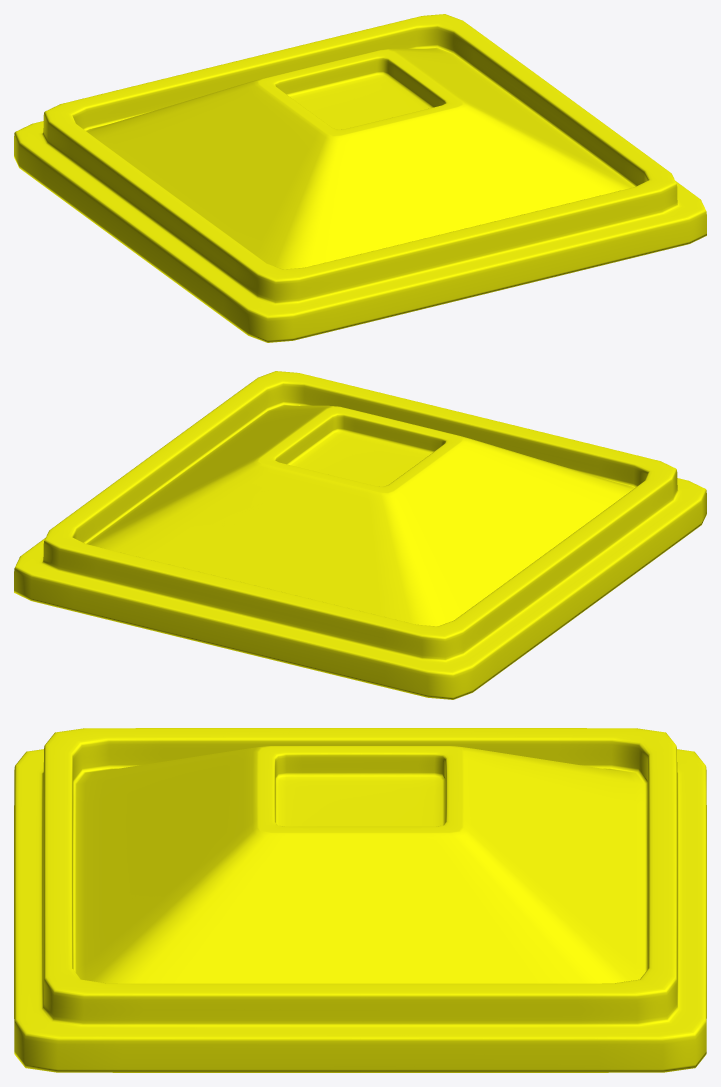
3 renders of one model, top to bottom at view 1: azimuth 30°, elevation 25°; view 2: azimuth 150°, elevation 25°; view 3: azimuth 270°, elevation 25°, orthographic. The views are drawn at different scales.
Visible parts, largest first — view 1: pasted__pCube298; view 2: pasted__pCube298; view 3: pasted__pCube298.
Part boxes in pixels (x1,y1,x2,y2): pasted__pCube298: (14, 14, 706, 342); pasted__pCube298: (14, 371, 706, 699); pasted__pCube298: (14, 728, 706, 1072).
Bounding box in the file's own units: 0.9998 × 0.2226 × 0.9998.
